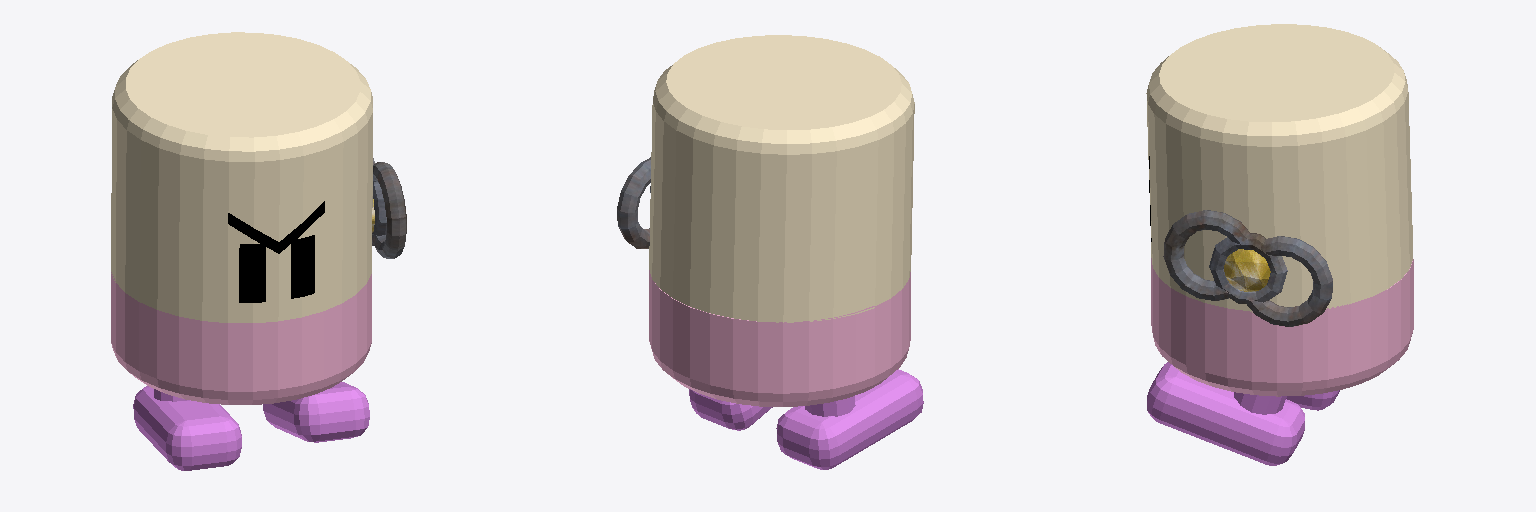
3 renders of one model, left to right at view 1: azimuth 30°, elevation 25°; view 2: azimuth 150°, elevation 25°; view 3: azimuth 270°, elevation 25°, orthographic.
Visible parts, largest first — view 1: Head, Jaw, RightLeg, LeftLeg, WindupKey; view 2: Head, Jaw, RightLeg, WindupKey, LeftLeg; view 3: Head, Jaw, WindupKey, LeftLeg, RightLeg.
Part boxes in pixels (left/top/right/bottom): Head: left=111, top=32, right=372, bottom=322; Jaw: left=111, top=272, right=371, bottom=404; RightLeg: left=133, top=386, right=241, bottom=470; LeftLeg: left=263, top=382, right=369, bottom=442; WindupKey: left=372, top=158, right=406, bottom=258; Head: left=649, top=35, right=914, bottom=322; Jaw: left=649, top=270, right=910, bottom=406; RightLeg: left=776, top=369, right=923, bottom=469; WindupKey: left=617, top=157, right=650, bottom=248; LeftLeg: left=689, top=389, right=772, bottom=430; Head: left=1146, top=24, right=1412, bottom=312; Jaw: left=1151, top=258, right=1413, bottom=396; WindupKey: left=1163, top=210, right=1332, bottom=326; LeftLeg: left=1147, top=362, right=1304, bottom=465; RightLeg: left=1286, top=390, right=1339, bottom=410.
Size of the model in its own units: 113 by 150 by 102.
6 materials, 2 textured.